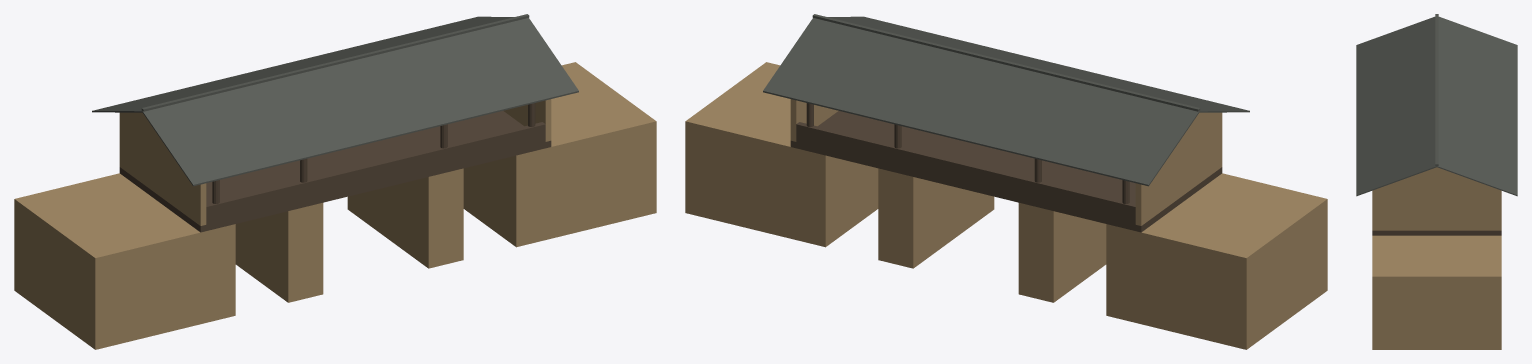
Rendered from gate-A-LOD2.glb.
3 views of the same model, side by side, from view 1: azimuth 30°, elevation 25°; view 2: azimuth 150°, elevation 25°; view 3: azimuth 270°, elevation 25° (orthographic). The views are drawn at different scales.
Visible parts, largest first — view 1: gate-A-static_earth, gate-A-static_tile, gate-A-static_timber; view 2: gate-A-static_earth, gate-A-static_tile, gate-A-static_timber; view 3: gate-A-static_tile, gate-A-static_earth, gate-A-static_timber.
Boxes of the visible parts, <box> form: gate-A-static_earth: <box>14,62,656,349</box>; gate-A-static_tile: <box>92,14,578,186</box>; gate-A-static_timber: <box>119,103,551,232</box>; gate-A-static_earth: <box>685,62,1327,349</box>; gate-A-static_tile: <box>763,14,1249,186</box>; gate-A-static_timber: <box>790,103,1222,232</box>; gate-A-static_tile: <box>1356,14,1517,196</box>; gate-A-static_earth: <box>1372,167,1501,349</box>; gate-A-static_timber: <box>1372,230,1501,235</box>.
Bounding box in the file's own units: 32 × 10.36 × 10.
